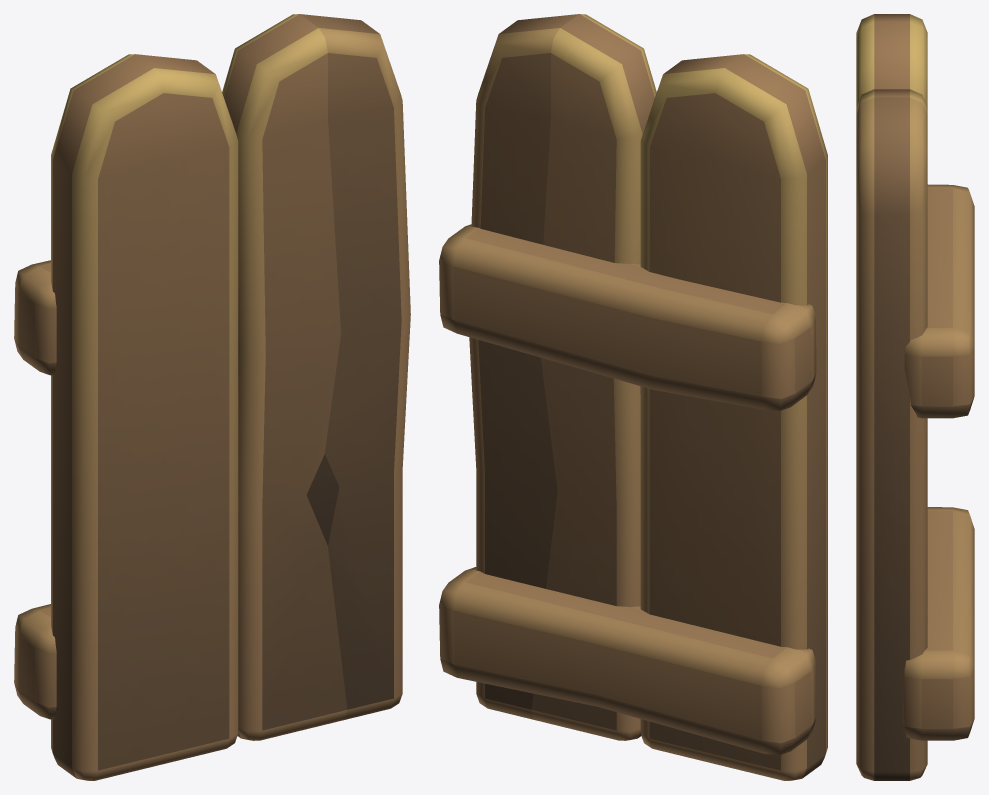
File: fence1_2_LOD_setup.fbx
3 views of the same model, side by side, from view 1: azimuth 30°, elevation 25°; view 2: azimuth 150°, elevation 25°; view 3: azimuth 270°, elevation 25° (orthographic). The views are drawn at different scales.
Visible parts, largest first — view 1: fence1_2_LOD0; view 2: fence1_2_LOD0; view 3: fence1_2_LOD0.
Boxes of the visible parts, x1=… form: fence1_2_LOD0: x1=14, y1=14, x2=410, y2=780; fence1_2_LOD0: x1=439, y1=14, x2=827, y2=780; fence1_2_LOD0: x1=856, y1=14, x2=974, y2=780.
Size of what is drawn, in the model's own units: 107 by 202 by 33.19.
